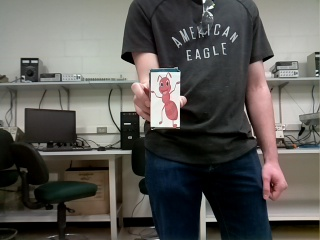Happy: (151, 72, 180, 127)
